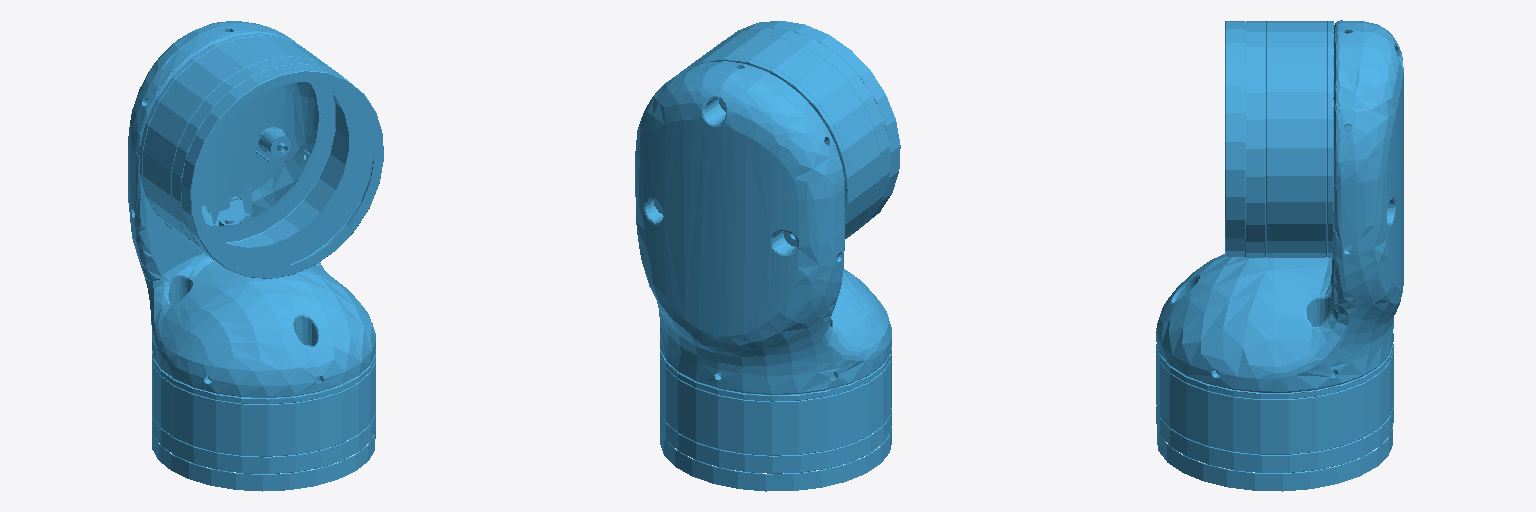
The robot description file, URDF, robot "igus_rebel":
<?xml version="1.0"?>
<robot name="igus_rebel">

<!-- measured from model -->
  <link name="base_link">
    <visual>
      <geometry>
        <mesh filename="package://igus_rebel_description/meshes/Robolink_RebeL_000.dae"/>
      </geometry>
    </visual>
    <collision>
      <geometry>
        <mesh filename="package://igus_rebel_description/meshes/Robolink_RebeL_000.dae"/>
      </geometry>
    </collision>
    <inertial>
      <mass value="1.0" />
      <inertia ixx="1.0" iyy="1.0" izz="1.0" ixy="0.0" ixz="0.0" iyz="0.0" />
    </inertial>
  </link>
  

  
  <joint name="joint1" type="revolute">
    <parent link="base_link"/>
    <child link="link_1"/>
    <origin rpy="0.0 0.0 3.1416" xyz="0.0 0 0.126"/>
    <axis xyz="0 0 -1"/>
    <limit effort="330.0" lower="-3.12414" upper="3.12414" velocity="2.16"/> <!-- limit taken from the controller -->
    <dynamics damping="0.0" friction="0.0"/>
  </joint>
  
  <link name="link_1">
    <visual>
      <geometry>
        <mesh filename="package://igus_rebel_description/meshes/Robolink_RebeL_001.dae"/>
      </geometry>
      <origin rpy="0 0 3.1416" xyz="0.0 0.0 -0.0537"/>
    </visual>
    <collision>
      <geometry>
        <mesh filename="package://igus_rebel_description/meshes/Robolink_RebeL_001.dae"/>
      </geometry>
      <origin rpy="0 0 3.1416" xyz="0.0 0.0 -0.0537"/>
    </collision>
    <inertial>
      <mass value="0.1" />
      <inertia ixx="0.03" iyy="0.03" izz="0.03" ixy="0.0" ixz="0.0" iyz="0.0" />
    </inertial>
  </link>
  
   
  <joint name="joint2" type="revolute">
    <parent link="link_1"/>
    <child link="link_2"/>
    <origin rpy="0.0 0.0 0.0" xyz="0.0 0.025 0.153"/>
    <axis xyz="0 -1 0"/>
    <limit effort="330.0" lower="-1.48353" upper="2.44346" velocity="2.16"/> <!-- limits taken from the controller -->
    <dynamics damping="0.0" friction="0.0"/>
  </joint>
  
  <link name="link_2">
    <visual>
      <geometry>
        <mesh filename="package://igus_rebel_description/meshes/Robolink_RebeL_002_0.dae"/>
      </geometry>
      <origin rpy="-1.5707 0 0" xyz="0 -0.005 -0.00625"/>
    </visual>
    <collision>
      <geometry>
        <mesh filename="package://igus_rebel_description/meshes/Robolink_RebeL_002_0.dae"/>
      </geometry>
      <origin rpy="-1.5707 0 0" xyz="0 -0.005 -0.00625"/>
    </collision>
    <inertial>
      <mass value="0.1" />
      <inertia ixx="0.03" iyy="0.03" izz="0.03" ixy="0.0" ixz="0.0" iyz="0.0" />
    </inertial>
  </link>
  

  <joint name="joint_fixed_1" type="fixed">
    <parent link="link_2"/>
    <child link="link_3"/>
    <origin rpy="0.0 0.0 0.0" xyz="0.0 -0.025 0.1"/>
    <dynamics damping="0.0" friction="0.0"/>
  </joint>
    
  <link name="link_3">
    <visual>
      <geometry>
        <mesh filename="package://igus_rebel_description/meshes/Robolink_RebeL_002_1.dae"/>
      </geometry>
      <origin rpy="0 0 3.1416" xyz="0 -0.00625 -0.00625"/>
    </visual>
    <collision>
      <geometry>
        <mesh filename="package://igus_rebel_description/meshes/Robolink_RebeL_002_1.dae"/>
      </geometry>
      <origin rpy="0 0 3.1416" xyz="0 -0.00625 -0.00625"/>
    </collision>
    <inertial>
      <mass value="0.1" />
      <inertia ixx="0.03" iyy="0.03" izz="0.03" ixy="0.0" ixz="0.0" iyz="0.0" />
    </inertial>    
  </link>
  
  
  <joint name="joint_fixed_2" type="fixed">
    <parent link="link_3"/>
    <child link="link_4"/>
    <origin rpy="0.0 -1.0472 0.0" xyz="-0.0326 0.0 0.05646"/>
    <dynamics damping="0.0" friction="0.0"/>
  </joint>
  
    <link name="link_4">
    <visual>
      <geometry>
        <mesh filename="package://igus_rebel_description/meshes/Robolink_RebeL_002_2.dae"/>
      </geometry>
      <origin rpy="0 0 -3.1416" xyz="0.0 0.0 -0.00625"/>
    </visual>
    <collision>
      <geometry>
        <mesh filename="package://igus_rebel_description/meshes/Robolink_RebeL_002_2.dae"/>
      </geometry>
      <origin rpy="0 0 -3.1416" xyz="0.0 0.0 -0.00625"/>
    </collision>
    <inertial>
      <mass value="0.1" />
      <inertia ixx="0.03" iyy="0.03" izz="0.03" ixy="0.0" ixz="0.0" iyz="0.0" />
    </inertial>
  </link>
  
    <joint name="joint3" type="revolute">
    <parent link="link_4"/>
    <child link="link_5"/>
    <origin rpy="0.0 0.0 0.0" xyz="0.0 0.025 0.1"/> <!-- 1.0472 -->
    <axis xyz="0 -1 0"/>
    <limit effort="330.0" lower="-1.39626" upper="2.61799" velocity="2.16"/>
    <dynamics damping="0.0" friction="0.0"/>
  </joint>
  
  <link name="link_5">
    <visual>
      <geometry>
        <mesh filename="package://igus_rebel_description/meshes/Robolink_RebeL_003.dae"/>
      </geometry>
      <origin rpy="-1.5707 0 0" xyz="0 -0.008 -0.008"/>
    </visual>
    <collision>
      <geometry>
        <mesh filename="package://igus_rebel_description/meshes/Robolink_RebeL_003.dae"/>
      </geometry>
      <origin rpy="-1.5707 0 0" xyz="0 -0.008 -0.008"/>
    </collision>
    <inertial>
      <mass value="0.1" />
      <inertia ixx="0.03" iyy="0.03" izz="0.03" ixy="0.0" ixz="0.0" iyz="0.0" />
    </inertial>
  </link>
  
  
  <joint name="joint4" type="revolute">
    <parent link="link_5"/>
    <child link="link_6"/>
    <origin rpy="0.0 0.0 0.0" xyz="0.0 -0.025 0.153"/> 
    <axis xyz="0 0 1"/>
    <limit effort="330.0" lower="-3.12414" upper="3.12414" velocity="2.16"/>
    <dynamics damping="0.0" friction="0.0"/>
  </joint>
  
  <link name="link_6">
    <visual>
      <geometry>
        <mesh filename="package://igus_rebel_description/meshes/Robolink_RebeL_004.dae"/>
      </geometry>
      <origin rpy="0 0 0" xyz="0 0 -0.003125"/>
    </visual>
    <collision>
      <geometry>
        <mesh filename="package://igus_rebel_description/meshes/Robolink_RebeL_004.dae"/>
      </geometry>
      <origin rpy="0 0 0" xyz="0 0 -0.003125"/>
    </collision>
    <inertial>
      <mass value="0.1" />
      <inertia ixx="0.03" iyy="0.03" izz="0.03" ixy="0.0" ixz="0.0" iyz="0.0" />
    </inertial>
  </link>
  
  <joint name="joint5" type="revolute">
    <parent link="link_6"/>
    <child link="link_7"/>
    <origin rpy="0.0 0.0 0.0" xyz="0.0 0.029 0.143"/>
    <axis xyz="0 -1 0"/>
    <limit effort="330.0" lower="-1.65806" upper="1.65806" velocity="2.16"/>
    <dynamics damping="0.0" friction="0.0"/>
  </joint>
  
  <link name="link_7">
    <visual>
      <geometry>
        <mesh filename="package://igus_rebel_description/meshes/Robolink_RebeL_005.dae"/>
      </geometry>
      <origin rpy="0 1.57 -1.5707" xyz="0 -0.00625 0"/>
    </visual>
    <collision>
      <geometry>
        <mesh filename="package://igus_rebel_description/meshes/Robolink_RebeL_005.dae"/>
      </geometry>
      <origin rpy="0 1.57 -1.5707" xyz="0 -0.00625 0"/>
    </collision>
    <inertial>
      <mass value="0.1" />
      <inertia ixx="0.03" iyy="0.03" izz="0.03" ixy="0.0" ixz="0.0" iyz="0.0" />
    </inertial>
  </link>
  
  
  <joint name="joint6" type="revolute">
    <parent link="link_7"/>
    <child link="link_8"/>
    <origin rpy="0.0 0.0 0.0" xyz="0.0 -0.029 0.1188"/>
    <axis xyz="0 0 1"/>
    <limit effort="330.0" lower="-3.12414" upper="3.12414" velocity="2.16"/>
    <dynamics damping="0.0" friction="0.0"/>
  </joint>
  
  <link name="link_8">
    <visual>
      <geometry>
        <mesh filename="package://igus_rebel_description/meshes/Robolink_RebeL_006.dae"/>
      </geometry>
      <origin rpy="0 -1.57 0" xyz="0.0 0.0 -0.00625"/>
    </visual>
    <collision>
      <geometry>
        <mesh filename="package://igus_rebel_description/meshes/Robolink_RebeL_006.dae"/>
      </geometry>
      <origin rpy="0 -1.57 0" xyz="0.0 0.0 -0.00625"/>
    </collision>
    <inertial>
      <mass value="0.1" />
      <inertia ixx="0.03" iyy="0.03" izz="0.03" ixy="0.0" ixz="0.0" iyz="0.0" />
    </inertial>
  </link>
  
</robot>

--- Facts derived from the render (not from the file) ---
The picture shows the robot from 3 angles, left to right: view 1: azimuth 30°, elevation 25°; view 2: azimuth 150°, elevation 25°; view 3: azimuth 270°, elevation 25°; orthographic projection.
Robot: igus_rebel — 9 links, 8 joints (6 revolute, 2 fixed); root link base_link; default pose: every joint at zero.
Links seen in each view (by area): view 1: link_1; view 2: link_1; view 3: link_1.
Link boxes in pixels (x1,y1,x2,y2): link_1: (128,21,383,491); link_1: (635,21,900,491); link_1: (1156,20,1403,491).
Bounding box of the posed robot: 0.105 × 0.1095 × 0.2004 m (x, y, z).
1 mesh visuals loaded from 9 distinct referenced files (1 Collada DAE); not drawn: 8 (reference not matched to a file when rendering).